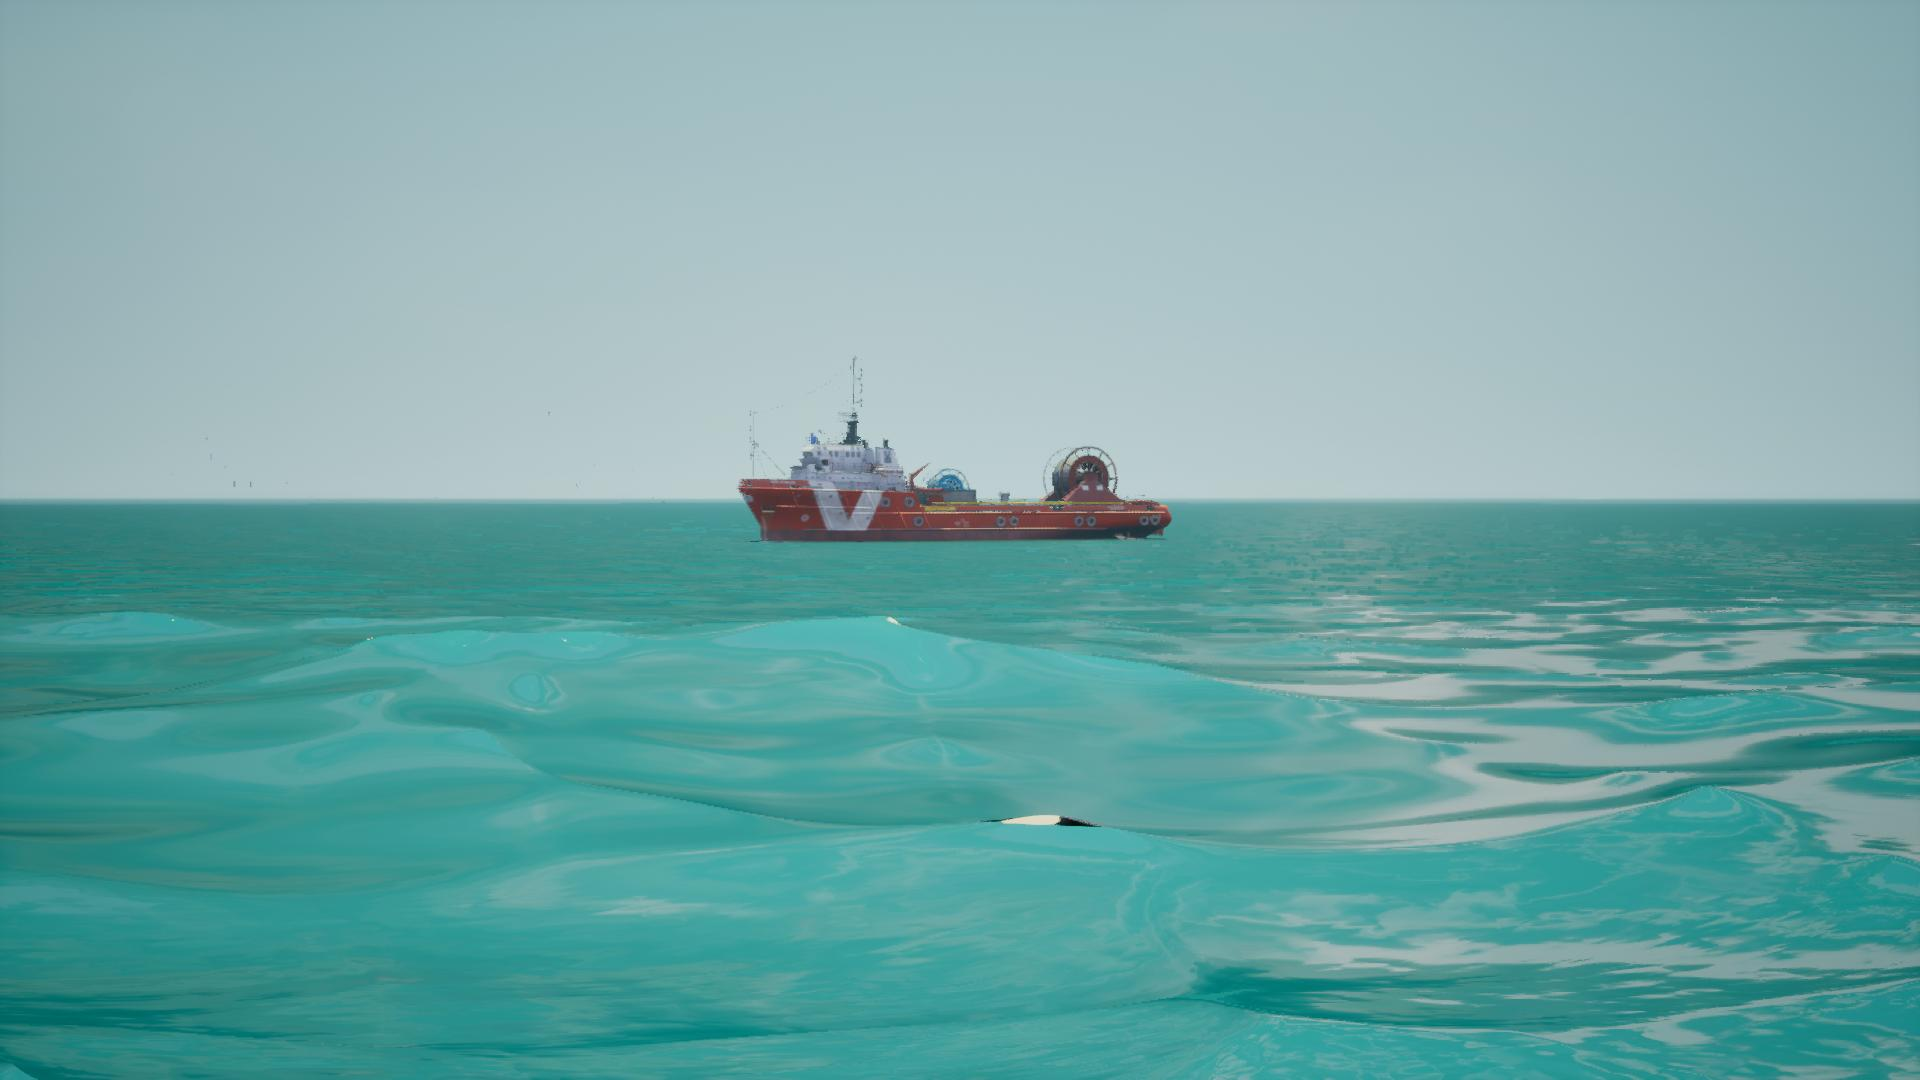Tug Boat: (735, 355, 1173, 549)
